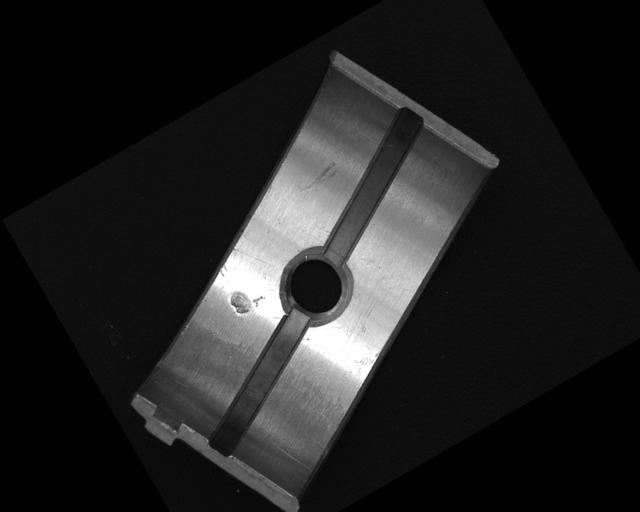bruise: (225, 278, 269, 319)
gap: (282, 104, 461, 268), (172, 306, 346, 459)
hole: (269, 238, 361, 334)
nick: (291, 159, 343, 199)
